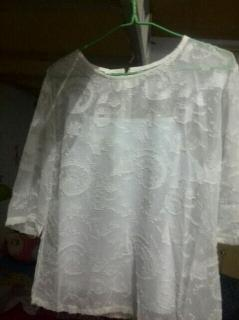long sleeve top: (4, 35, 239, 319)
